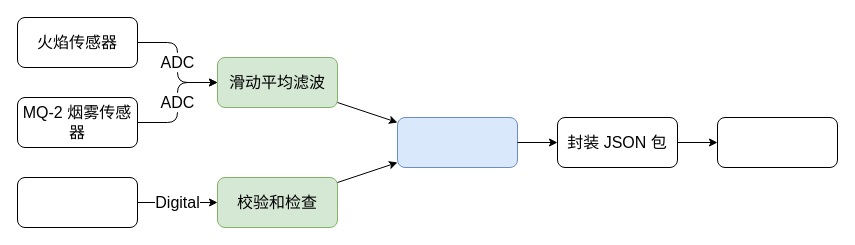
Some shapes in this 855 by 245 pixel diagram are drawn without their labels. Here are the shapes that lost their labels. From the top down, the centre of each, then its label:
[457,142]: 归一化处理
[777,142]: MQTT 发送
[77,202]: DHT11 温湿度
